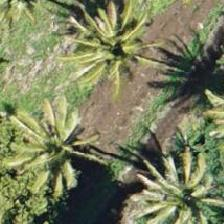coconut_tree: (63, 0, 153, 88), (67, 0, 157, 87), (0, 101, 86, 191), (152, 158, 223, 223)
